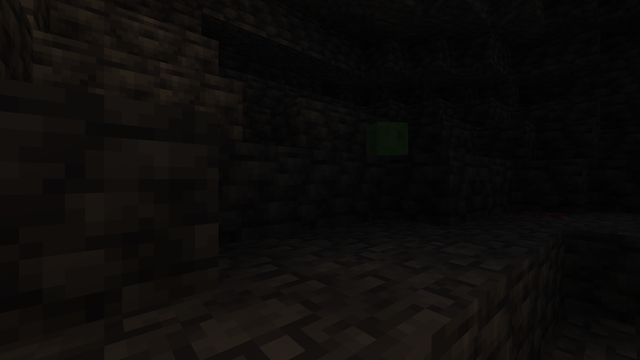slimes: (363, 119, 409, 158)
